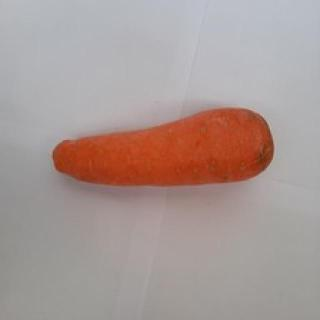carrot: (53, 106, 273, 186)
